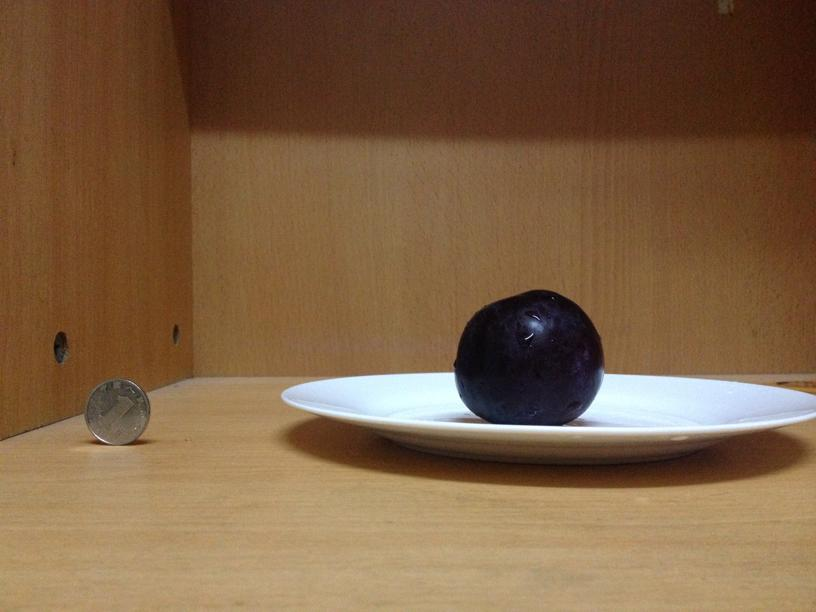coin: (82, 377, 152, 447)
plum: (453, 282, 606, 426)
